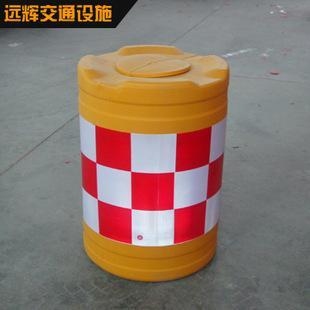sign: (66, 38, 227, 285)
